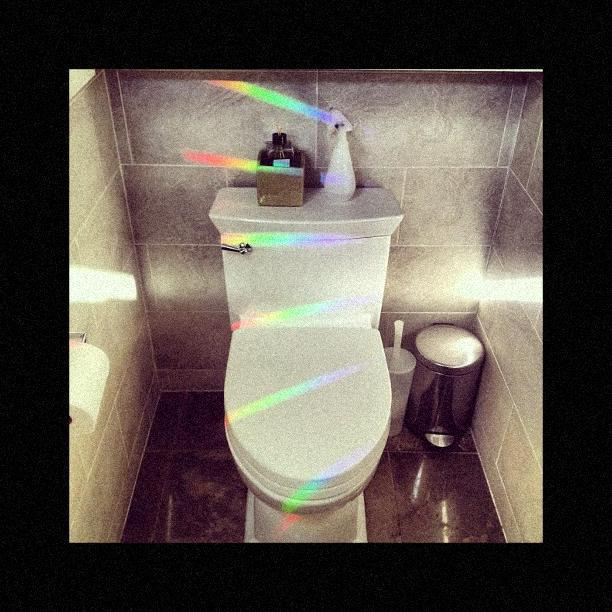Bote de Basura: (410, 320, 490, 455)
Sanitario: (203, 182, 394, 542)
